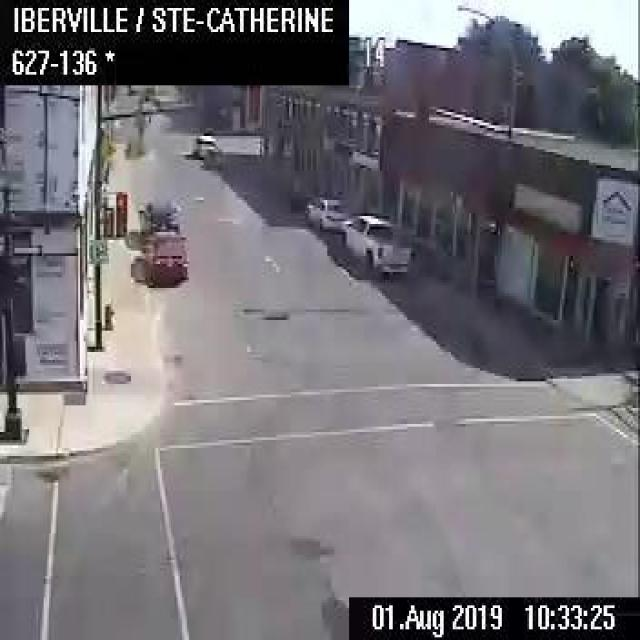vehicle: (338, 212, 413, 275), (143, 228, 188, 284), (302, 190, 350, 229), (136, 197, 178, 239), (192, 133, 217, 156), (202, 146, 222, 168)
